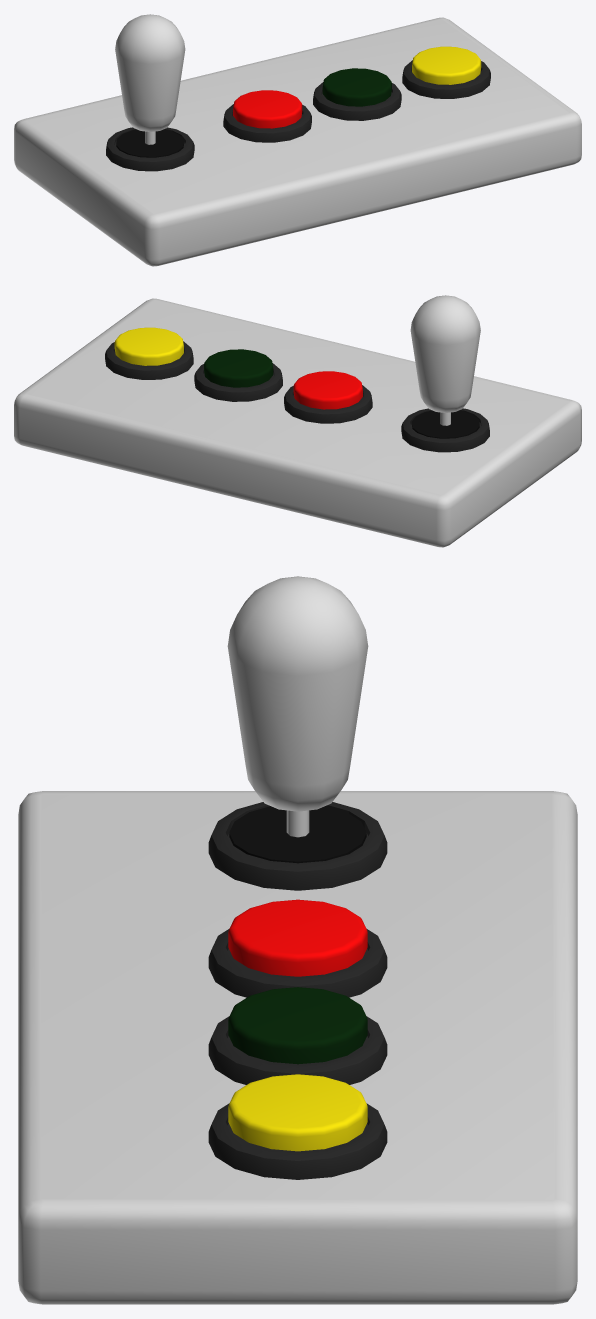
File: joystick.fbx
The picture shows the model from 3 angles, top to bottom: view 1: azimuth 30°, elevation 25°; view 2: azimuth 150°, elevation 25°; view 3: azimuth 270°, elevation 25°; orthographic projection. The views are drawn at different scales.
Visible parts, largest first — view 1: Box001, Capsule001, Cylinder004, Cylinder006, Cylinder008, Cylinder002, Cylinder003, Cylinder005, Cylinder007, Cylinder009; view 2: Box001, Capsule001, Cylinder004, Cylinder006, Cylinder008, Cylinder002, Cylinder003, Cylinder005, Cylinder007, Cylinder009; view 3: Box001, Capsule001, Cylinder004, Cylinder008, Cylinder006, Cylinder002, Cylinder007, Cylinder009, Cylinder003, Cylinder005.
Part boxes in pixels (x1,y1,x2,y2): Box001: (14, 17, 581, 266); Capsule001: (115, 14, 185, 144); Cylinder004: (233, 90, 302, 128); Cylinder006: (322, 68, 391, 106); Cylinder008: (412, 46, 481, 84); Cylinder002: (106, 127, 194, 171); Cylinder003: (223, 104, 311, 142); Cylinder005: (313, 82, 401, 120); Cylinder007: (402, 60, 490, 98); Cylinder009: (116, 129, 184, 157); Box001: (14, 298, 581, 547); Capsule001: (410, 295, 480, 425); Cylinder004: (293, 371, 362, 409); Cylinder006: (204, 349, 273, 387); Cylinder008: (114, 327, 183, 365); Cylinder002: (401, 408, 489, 452); Cylinder003: (284, 385, 372, 423); Cylinder005: (194, 363, 282, 401); Cylinder007: (105, 341, 193, 379); Cylinder009: (411, 410, 479, 438); Box001: (18, 791, 577, 1304); Capsule001: (227, 576, 368, 837); Cylinder004: (228, 899, 367, 976); Cylinder008: (228, 1074, 367, 1151); Cylinder006: (228, 987, 367, 1064); Cylinder002: (208, 802, 387, 890); Cylinder007: (208, 1103, 387, 1179); Cylinder009: (229, 806, 366, 863); Cylinder003: (208, 929, 387, 997); Cylinder005: (208, 1016, 387, 1084).
Bounding box in the file's own units: 45 × 18.33 × 25.
